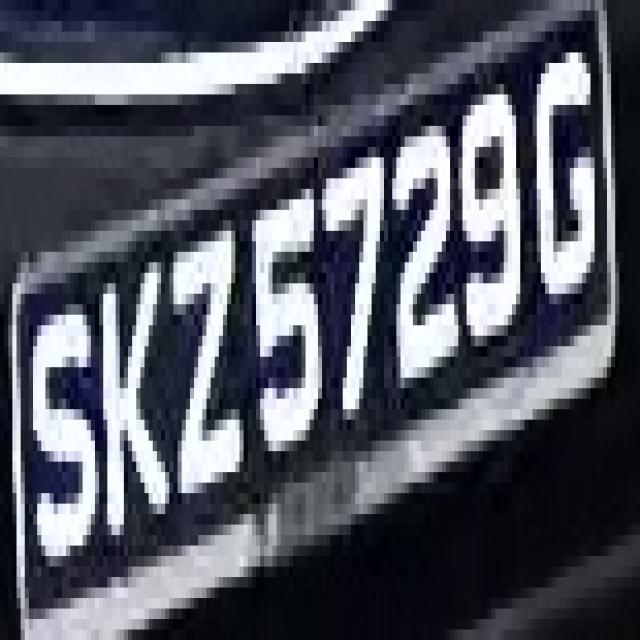2: (384, 116, 458, 410)
5: (240, 189, 322, 493)
7: (310, 136, 400, 462)
9: (446, 94, 520, 357)
G: (528, 42, 603, 346)
K: (95, 231, 173, 566)
S: (25, 262, 99, 556)
Z: (157, 220, 244, 514)
